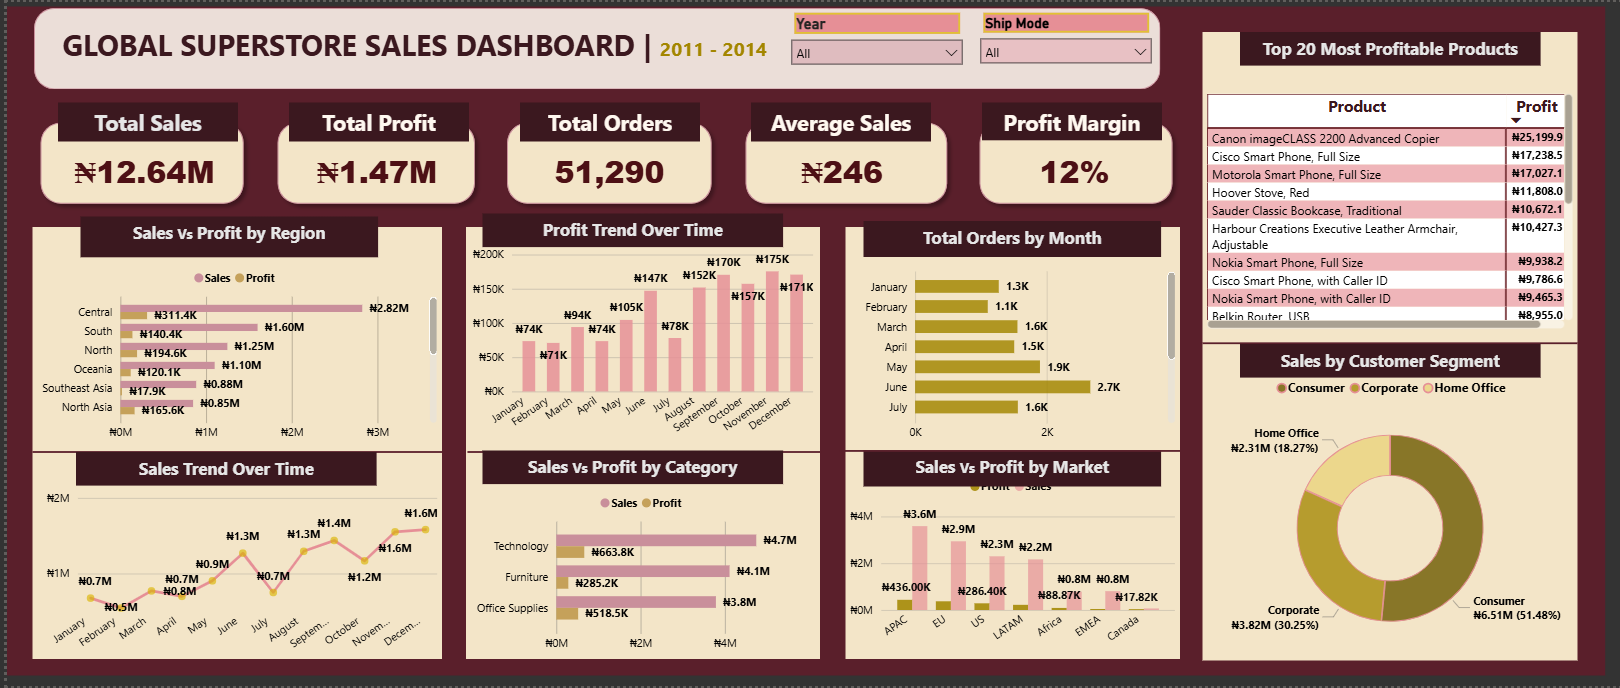

The dashboard page shown, as its layout file describes it:
{"tool":"powerbi","page":{"name":"Page 1","canvas":[1800,760],"ordinal":0},"visuals":[{"type":"shape","box":[0,4.8,1775.8,743.5],"z":0},{"type":"shape","box":[30.6,6.5,1251.6,90.3],"z":1000},{"type":"shape","box":[29,124.2,243.5,108.1],"z":2000},{"type":"shape","box":[291.9,124.2,237.1,108.1],"z":3000},{"type":"shape","box":[546.8,124.2,245.2,108.1],"z":4000},{"type":"shape","box":[811.3,124.2,241.9,108.1],"z":5000},{"type":"shape","box":[1071,124.2,232.3,108.1],"z":6000},{"type":"shape","box":[931.7,250,371.7,480],"z":7000},{"type":"shape","box":[510,250,393.3,480],"z":8000},{"type":"shape","box":[1328.3,33.3,416.7,698.3],"z":9000},{"type":"shape","box":[1328.3,371.7,416.7,15],"z":10000},{"type":"shape","box":[28.3,250,455,480],"z":11000},{"type":"shape","box":[510.8,490,393.3,20],"z":12000},{"type":"shape","box":[28.3,490,455,20],"z":13000},{"type":"card","fields":{"Values":["Global store.Total Sales"]},"box":[56.7,155,191.7,66.7],"z":14000},{"type":"textbox","box":[56.7,111.7,200,43.3],"z":15000},{"type":"card","fields":{"Values":["Global store.Total Profit"]},"box":[315.1,155,191.7,66.7],"z":16000},{"type":"textbox","box":[313.1,111.7,200,43.3],"z":17000},{"type":"card","fields":{"Values":["Global store.Total Orders"]},"box":[573.6,155,191.7,66.7],"z":18000},{"type":"textbox","box":[569.6,111.7,200,43.3],"z":19000},{"type":"card","fields":{"Values":["Global store.Avg Sales"]},"box":[832,155,191.7,66.7],"z":20000},{"type":"textbox","box":[826.1,111.7,200,43.3],"z":21000},{"type":"card","fields":{"Values":["Global store.Profit Margin"]},"box":[1090.5,155.1,191.5,66.5],"z":22000},{"type":"textbox","box":[1082.6,111.7,199.8,41.9],"z":23000},{"type":"clusteredBarChart","fields":{"Category":["Global store.Region"],"Y":["Sum(Global store.Sales)","Sum(Global store.Profit)"]},"box":[27.4,286.8,455.9,209.4],"z":24000},{"type":"textbox","box":[82.3,238.7,330.6,45.2],"z":25000},{"type":"donutChart","fields":{"Category":["Global store.Segment"],"Y":["Sum(Global store.Sales)"]},"box":[1329,408.1,416.1,322.6],"z":26000},{"type":"textbox","box":[1369.4,380.6,333.9,37.1],"z":27000},{"type":"clusteredBarChart","fields":{"Category":["Global store.Category"],"Y":["Sum(Global store.Sales)","Sum(Global store.Profit)"]},"box":[510.7,536.5,393.1,193.3],"z":28000},{"type":"textbox","box":[529,498.4,333.9,37.1],"z":29000},{"type":"pivotTable","fields":{"Rows":["Global store.Product_name"],"Values":["Sum(Global store.Profit)"]},"box":[1329,96.8,416.1,271],"z":30000},{"type":"textbox","box":[1369.4,33.9,333.9,37.1],"z":31000},{"type":"lineChart","fields":{"Category":["Global store.Order Date.Variation.Date Hierarchy.Month"],"Y":["Sum(Global store.Sales)"]},"box":[31.2,509.1,453.2,222.1],"z":32000},{"type":"textbox","box":[77.4,500.3,333.9,37.1],"z":33000},{"type":"clusteredColumnChart","fields":{"Category":["Global store.Order Date.Variation.Date Hierarchy.Month"],"Y":["Sum(Global store.Profit)"]},"box":[511.3,261.3,388.7,238.7],"z":34000},{"type":"textbox","box":[529,235.5,333.9,37.1],"z":35000},{"type":"clusteredColumnChart","fields":{"Category":["Global store.Market"],"Y":["Global store.Total Profit","Global store.Total Sales"]},"box":[932.3,517.7,371,212.9],"z":36000},{"type":"textbox","box":[951.6,498.7,330.6,40.3],"z":37000},{"type":"shape","box":[925.8,488.7,393.5,21],"z":38000},{"type":"clusteredBarChart","fields":{"Category":["Global store.Order Date.Variation.Date Hierarchy.Month"],"Y":["Count(Global store.Order ID)"]},"box":[932.3,287.1,371,209.7],"z":39000},{"type":"textbox","box":[951.6,243.5,330.6,40.3],"z":40000},{"type":"textbox","box":[56.7,20,816.7,65],"z":41000},{"type":"slicer","fields":{"Values":["Global store.Order Date.Variation.Date Hierarchy.Year"]},"box":[861.7,6.7,210,65],"z":42000},{"type":"slicer","fields":{"Values":["Global store.Ship Mode"]},"box":[1071.7,6.7,210,65],"z":43000}]}

Visuals, with their boxes in screenshot pixels (x1, y1, x2, y2), scaled from the page's 1800x760 canvas onto the 1620x688 screenshot:
shape: region(0, 4, 1598, 677)
shape: region(28, 6, 1154, 88)
shape: region(26, 112, 245, 210)
shape: region(263, 112, 476, 210)
shape: region(492, 112, 713, 210)
shape: region(730, 112, 948, 210)
shape: region(964, 112, 1173, 210)
shape: region(839, 226, 1173, 661)
shape: region(459, 226, 813, 661)
shape: region(1195, 30, 1570, 662)
shape: region(1195, 336, 1570, 350)
shape: region(25, 226, 435, 661)
shape: region(460, 444, 814, 462)
shape: region(25, 444, 435, 462)
card - Global store.Total Sales: region(51, 140, 224, 201)
textbox: region(51, 101, 231, 140)
card - Global store.Total Profit: region(284, 140, 456, 201)
textbox: region(282, 101, 462, 140)
card - Global store.Total Orders: region(516, 140, 689, 201)
textbox: region(513, 101, 693, 140)
card - Global store.Avg Sales: region(749, 140, 921, 201)
textbox: region(743, 101, 923, 140)
card - Global store.Profit Margin: region(981, 140, 1154, 201)
textbox: region(974, 101, 1154, 139)
clusteredBarChart - Global store.Region x Sum(Global store.Sales): region(25, 260, 435, 449)
textbox: region(74, 216, 372, 257)
donutChart - Global store.Segment x Sum(Global store.Sales): region(1196, 369, 1571, 661)
textbox: region(1232, 345, 1533, 378)
clusteredBarChart - Global store.Category x Sum(Global store.Sales): region(460, 486, 813, 661)
textbox: region(476, 451, 777, 485)
pivotTable - Global store.Product_name x Sum(Global store.Profit): region(1196, 88, 1571, 333)
textbox: region(1232, 31, 1533, 64)
lineChart - Global store.Order Date.Variation.Date Hierarchy.Month x Sum(Global store.Sales): region(28, 461, 436, 662)
textbox: region(70, 453, 370, 486)
clusteredColumnChart - Global store.Order Date.Variation.Date Hierarchy.Month x Sum(Global store.Profit): region(460, 237, 810, 453)
textbox: region(476, 213, 777, 247)
clusteredColumnChart - Global store.Market x Global store.Total Profit: region(839, 469, 1173, 661)
textbox: region(856, 451, 1154, 488)
shape: region(833, 442, 1187, 461)
clusteredBarChart - Global store.Order Date.Variation.Date Hierarchy.Month x Count(Global store.Order ID): region(839, 260, 1173, 450)
textbox: region(856, 220, 1154, 257)
textbox: region(51, 18, 786, 77)
slicer - Global store.Order Date.Variation.Date Hierarchy.Year: region(776, 6, 965, 65)
slicer - Global store.Ship Mode: region(965, 6, 1154, 65)
